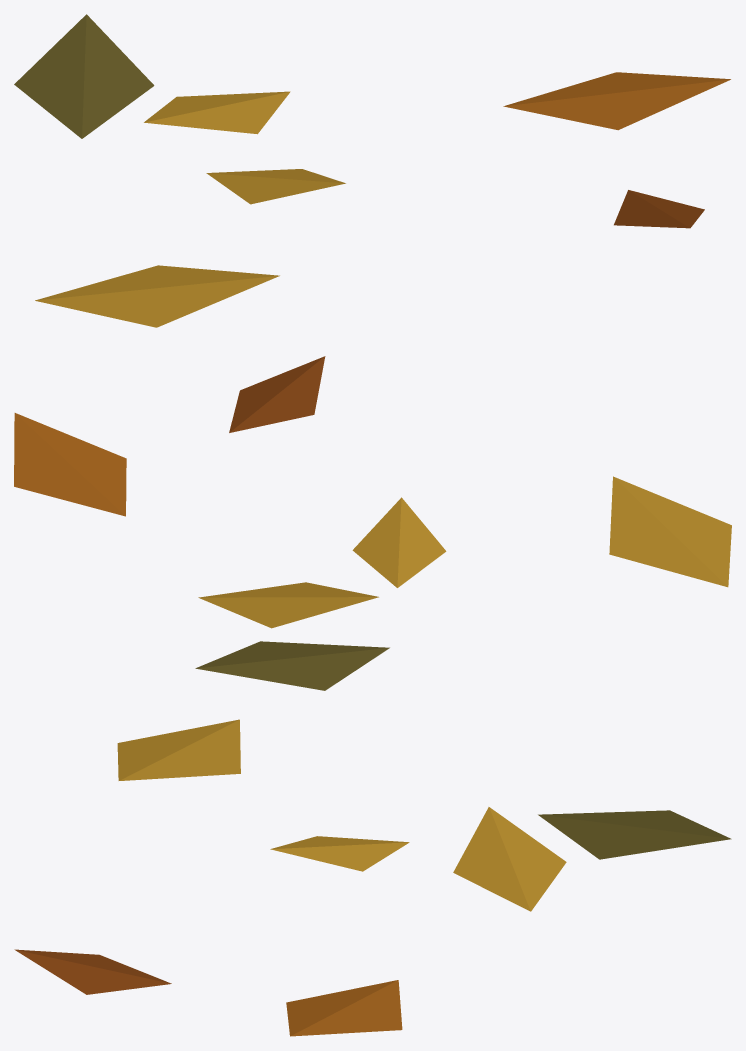
The model's file is leaves.glb.
The picture shows the model from 3 angles, top to bottom: view 1: azimuth 30°, elevation 25°; view 2: azimuth 150°, elevation 25°; view 3: azimuth 270°, elevation 25°; orthographic projection. The views are drawn at different scales.
Visible parts, largest first — view 1: leaves; view 2: leaves; view 3: leaves.
Part boxes in pixels (box(x1,y1,x2,y2)): leaves: box(14, 14, 730, 327); leaves: box(14, 356, 731, 690); leaves: box(14, 719, 731, 1036).
Bounding box in the file's own units: 0.4953 × 0.017 × 0.4392.
